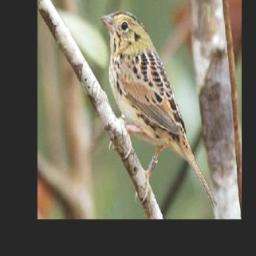Sparrow: (100, 6, 224, 211)
